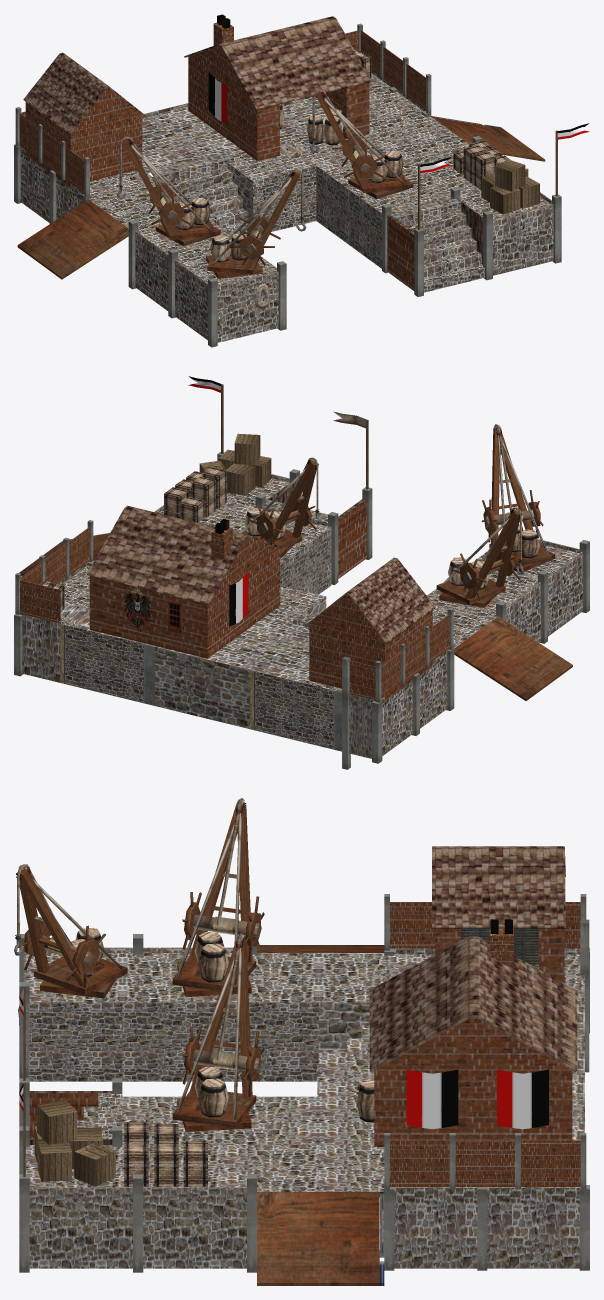
The model's file is dock.dae.
3 views of the same model, one above another, from view 1: azimuth 30°, elevation 25°; view 2: azimuth 150°, elevation 25°; view 3: azimuth 270°, elevation 25° (orthographic). The views are drawn at different scales.
Parts seen in each view (by area): view 1: rome_dock_001.001; view 2: rome_dock_001.001; view 3: rome_dock_001.001.
Part boxes in pixels (left/top/right/bottom): rome_dock_001.001: left=14, top=14, right=589, bottom=347; rome_dock_001.001: left=14, top=376, right=589, bottom=769; rome_dock_001.001: left=14, top=798, right=589, bottom=1285.
Bounding box in the file's own units: 56.58 × 40.75 × 19.65.
